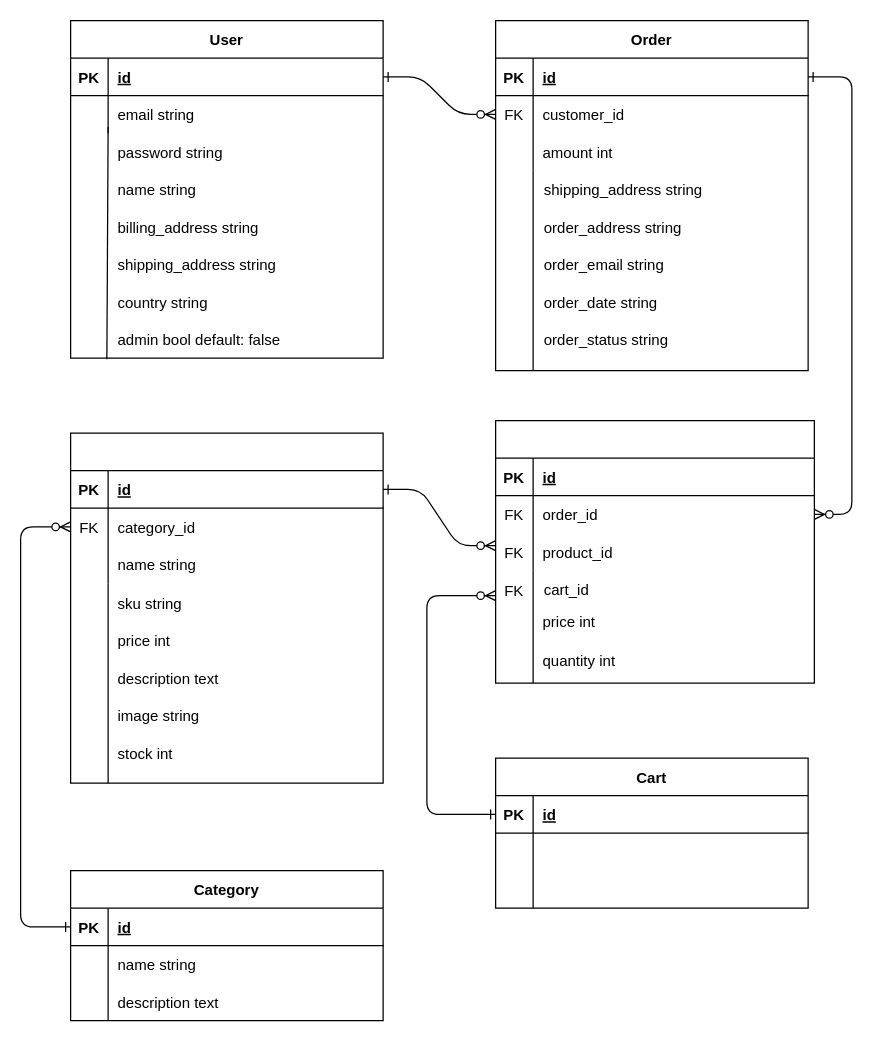
Image size: 873x1041. Some labels were removed from this diagram. Here are the shapes that lost their labels. From the top down, the box of each, then its label:
(494, 419, 814, 683): OrderItem
(69, 432, 383, 783): Product
